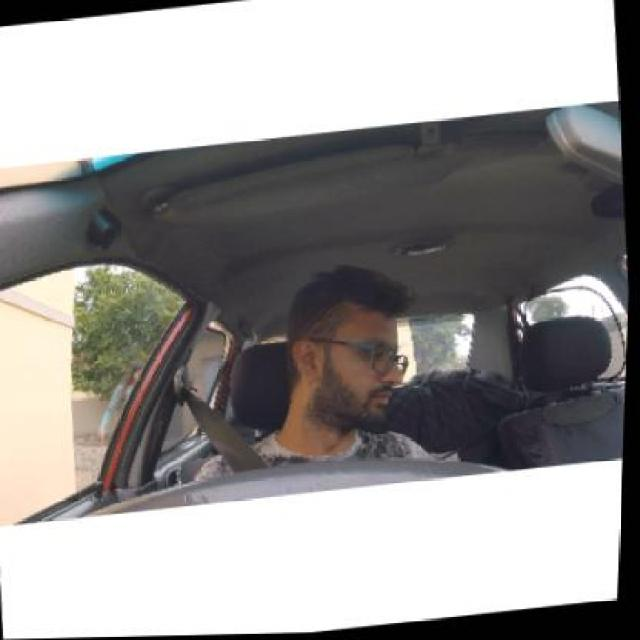LeftRight: (282, 274, 409, 434)
